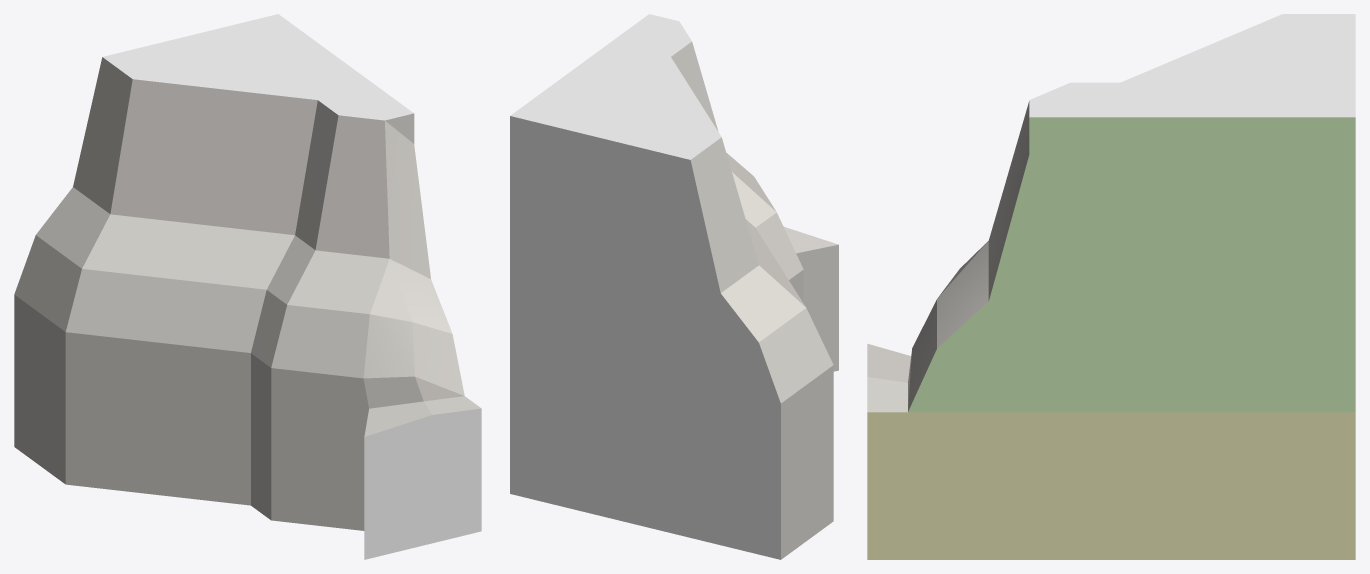
Rendered from Cave_Edge_Esse_Base_3x3.glb.
The picture shows the model from 3 angles, left to right: view 1: azimuth 30°, elevation 25°; view 2: azimuth 150°, elevation 25°; view 3: azimuth 270°, elevation 25°; orthographic projection. The views are drawn at different scales.
Parts seen in each view (by area): view 1: Cave_Edge_Esse_Base_3x3; view 2: Cave_Edge_Esse_Base_3x3; view 3: Cave_Edge_Esse_Base_3x3.
Boxes of the visible parts, <box> form: Cave_Edge_Esse_Base_3x3: <box>14,14,481,559</box>; Cave_Edge_Esse_Base_3x3: <box>510,14,838,559</box>; Cave_Edge_Esse_Base_3x3: <box>867,14,1355,559</box>.
Bounding box in the file's own units: 225 × 300 × 300.
